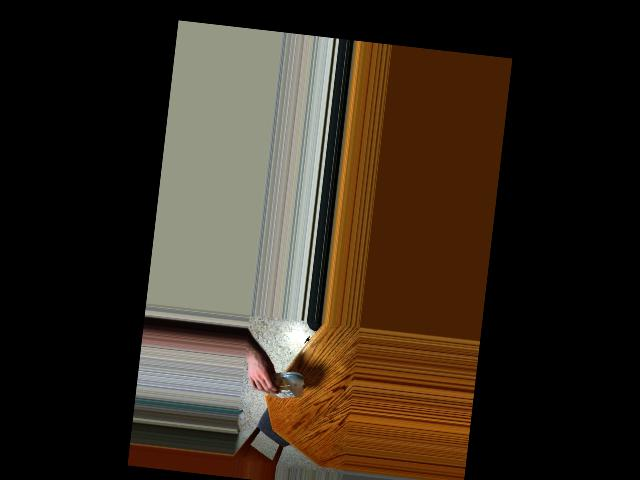cheese: (255, 364, 300, 402)
